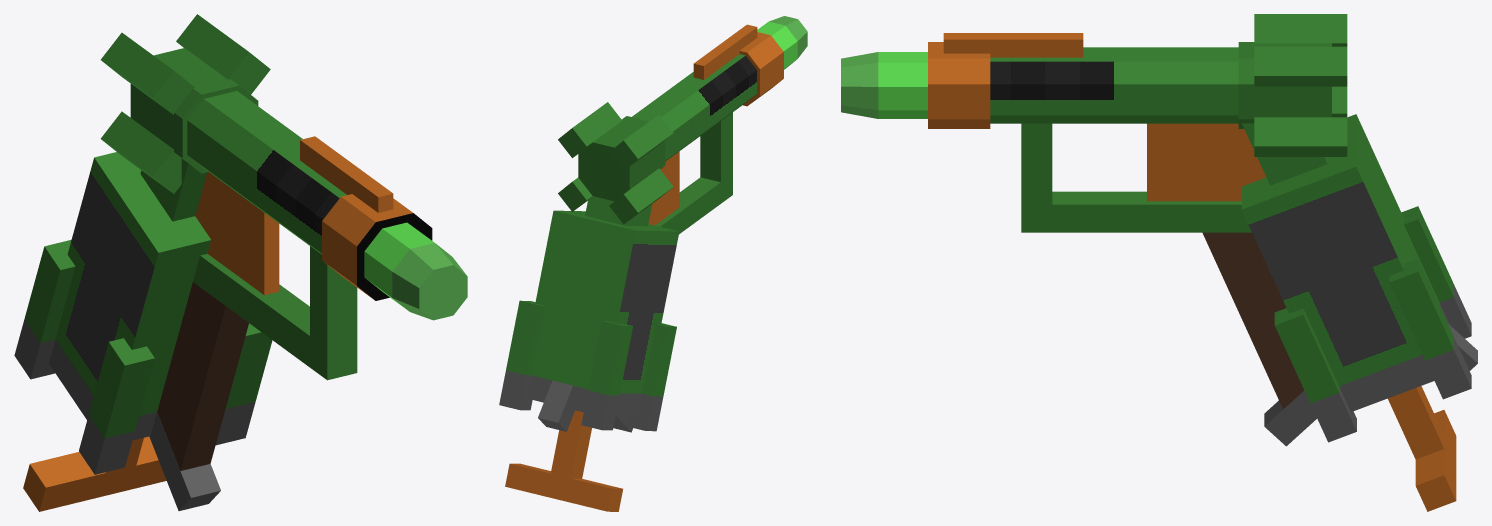
Rendered from jolt.obj.
3 views of the same model, side by side, from view 1: azimuth 30°, elevation 25°; view 2: azimuth 150°, elevation 25°; view 3: azimuth 270°, elevation 25° (orthographic). The views are drawn at different scales.
Parts seen in each view (by area): view 1: cube, dart, triggerModel, plunger; view 2: cube, plunger, dart, triggerModel; view 3: cube, triggerModel, dart, plunger.
Part boxes in pixels (<box>): cube: <box>14,14,432,510</box>; dart: <box>364,222,467,320</box>; triggerModel: <box>195,172,279,295</box>; plunger: <box>23,436,166,511</box>; cube: <box>499,24,783,432</box>; plunger: <box>505,410,622,511</box>; dart: <box>757,16,807,69</box>; triggerModel: <box>648,151,679,225</box>; cube: <box>928,14,1477,446</box>; triggerModel: <box>1147,123,1265,201</box>; dart: <box>841,52,927,118</box>; plunger: <box>1387,386,1456,511</box>.
Size of the model in its own units: 0.0977 by 0.3114 by 0.4024.
